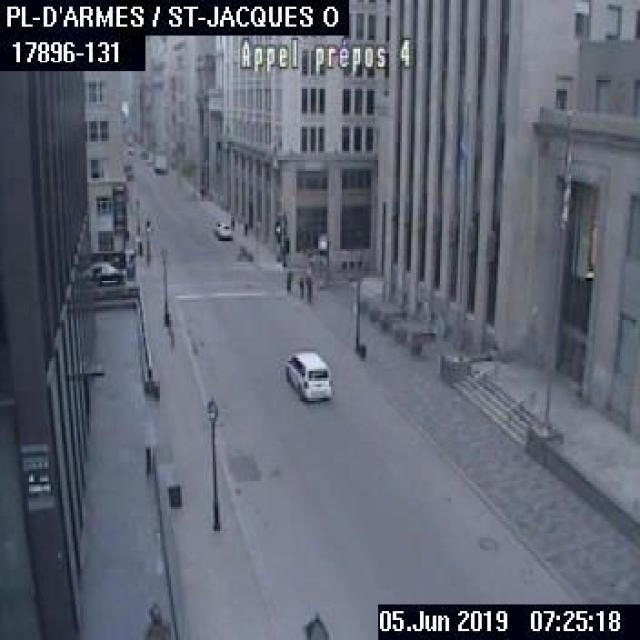pedestrian: (140, 603, 168, 638), (304, 273, 312, 300), (284, 267, 290, 292), (296, 272, 302, 296)
vehicle: (282, 349, 331, 400), (86, 260, 126, 282), (213, 219, 231, 237), (153, 154, 166, 172)
